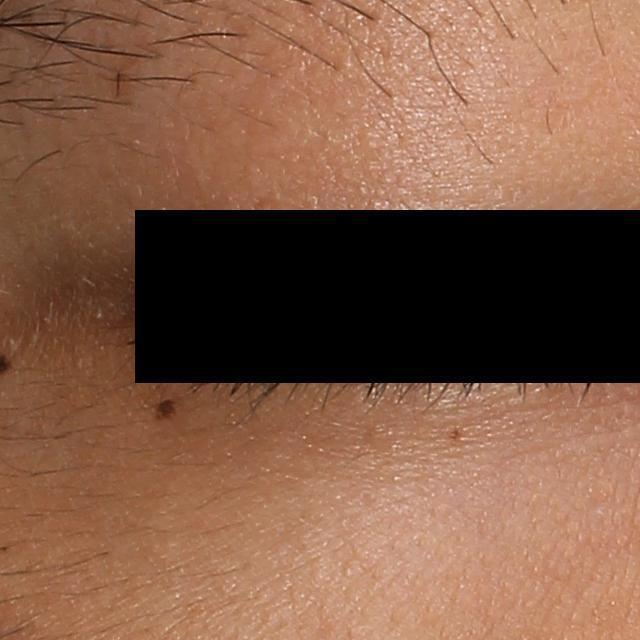nevus: (152, 397, 179, 423), (449, 425, 464, 441)
